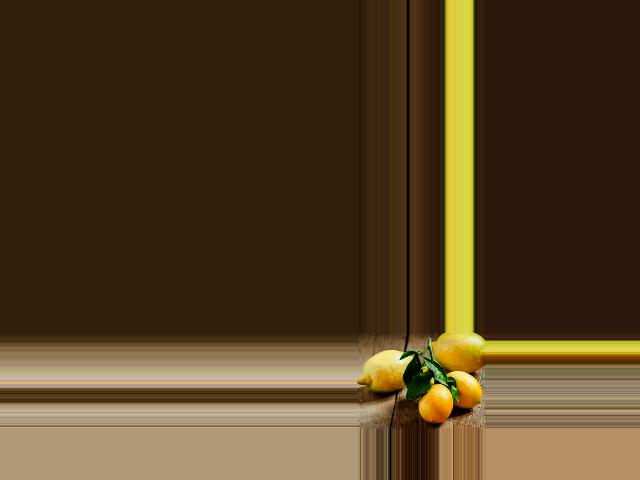lemon: (358, 348, 424, 398)
